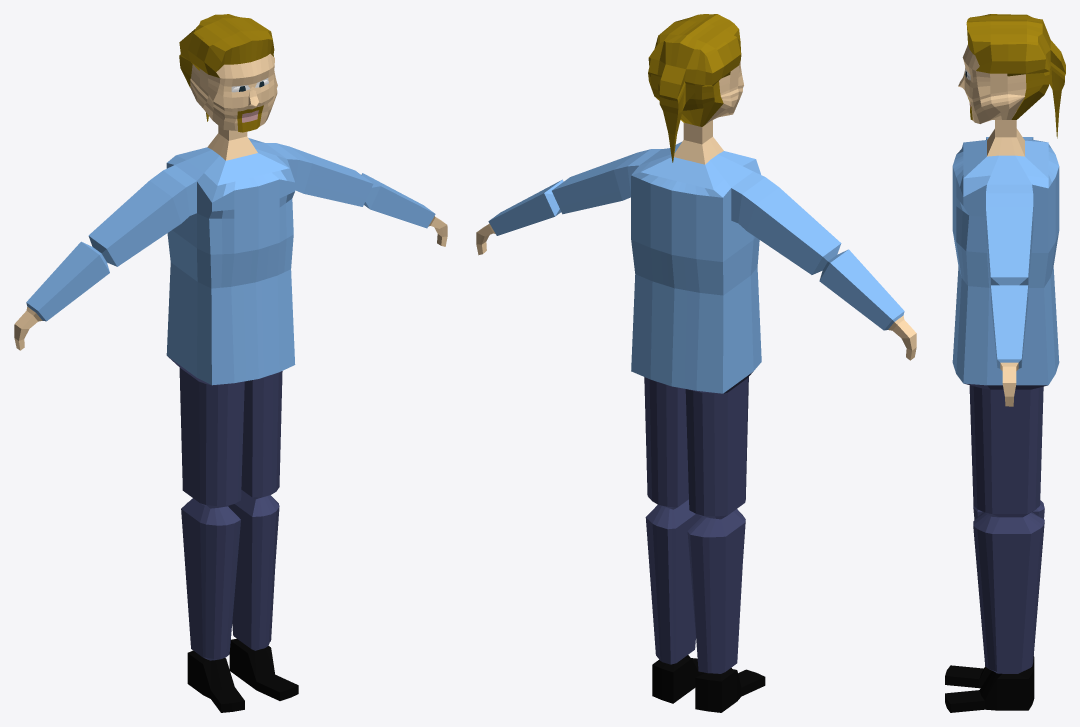
Rendered from vatan1.fbx.
3 renders of one model, left to right at view 1: azimuth 30°, elevation 25°; view 2: azimuth 150°, elevation 25°; view 3: azimuth 270°, elevation 25°, orthographic. The views are drawn at different scales.
Visible parts, largest first — view 1: tşört, kol, KOL, Cube, KOL.001, ayakkabı, SAÇ; view 2: tşört, kol, KOL, SAÇ, KOL.001, ayakkabı, Cube; view 3: kol, tşört, KOL.001, SAÇ, Cube, ayakkabı, el.001.
Boxes of the visible parts, x1,y1,x2,y2 form: tşört: (166, 138, 295, 385); kol: (168, 357, 282, 660); KOL: (26, 165, 196, 321); Cube: (190, 53, 277, 160); KOL.001: (265, 143, 435, 228); ayakkabı: (187, 638, 298, 712); SAÇ: (179, 14, 274, 121); tşört: (631, 142, 761, 393); kol: (644, 371, 753, 673); KOL: (731, 171, 904, 330); SAÇ: (648, 14, 741, 162); KOL.001: (488, 149, 661, 235); ayakkabı: (652, 655, 765, 712); Cube: (674, 59, 743, 164); kol: (964, 383, 1047, 673); tşört: (952, 139, 1059, 385); KOL.001: (986, 184, 1033, 368); SAÇ: (966, 14, 1065, 138); Cube: (958, 45, 1026, 156); ayakkabı: (945, 656, 1034, 712); el.001: (1000, 362, 1018, 406).
Size of the model in its own units: 141 by 207 by 33.77.
